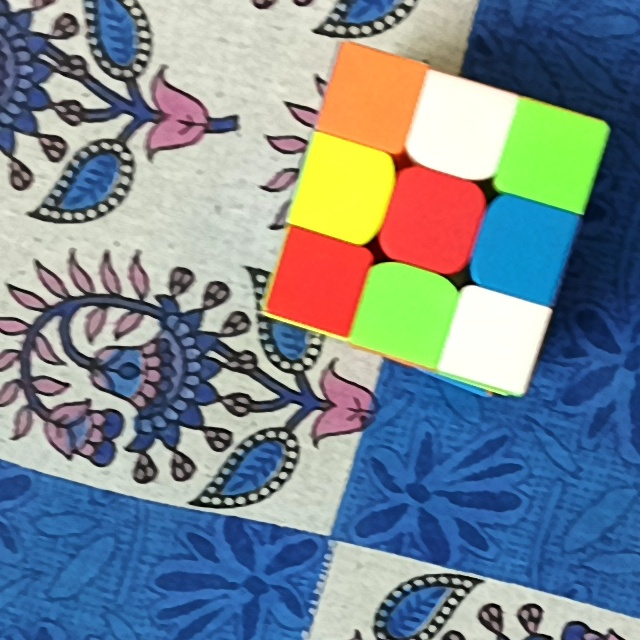tile: (336, 63, 405, 133), (519, 119, 588, 189), (461, 304, 526, 374), (494, 212, 559, 280), (287, 249, 357, 312), (401, 186, 464, 255), (433, 93, 494, 164), (314, 159, 376, 226), (371, 286, 436, 346)
